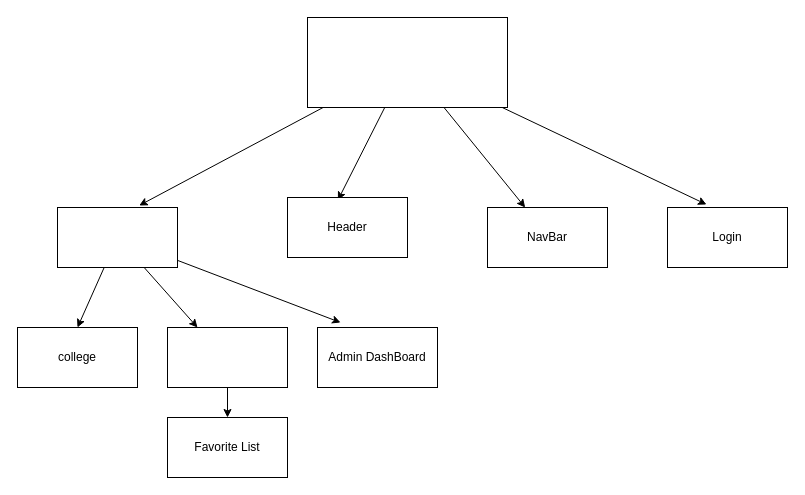
Image size: 805x495. Some labels were removed from this diagram. The centre of each missing label's shape, as x and y in pixels:
"App" belongs at pixel 407 62.
"Favorite" belongs at pixel 227 357.
"Home" belongs at pixel 117 237.
